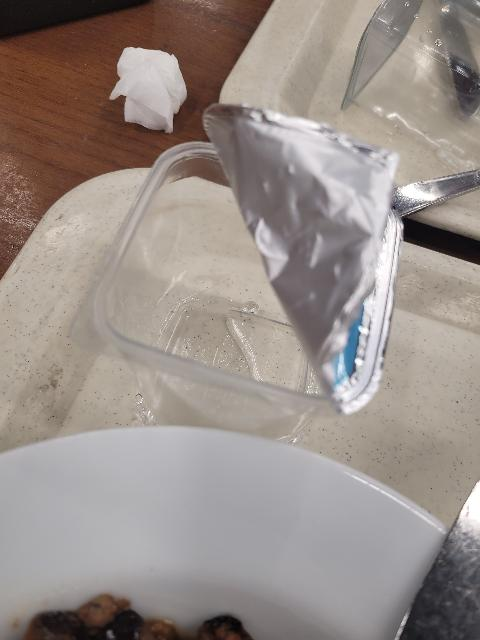Kagit: (111, 45, 190, 134)
Plastik: (81, 133, 425, 418), (341, 1, 480, 163)
